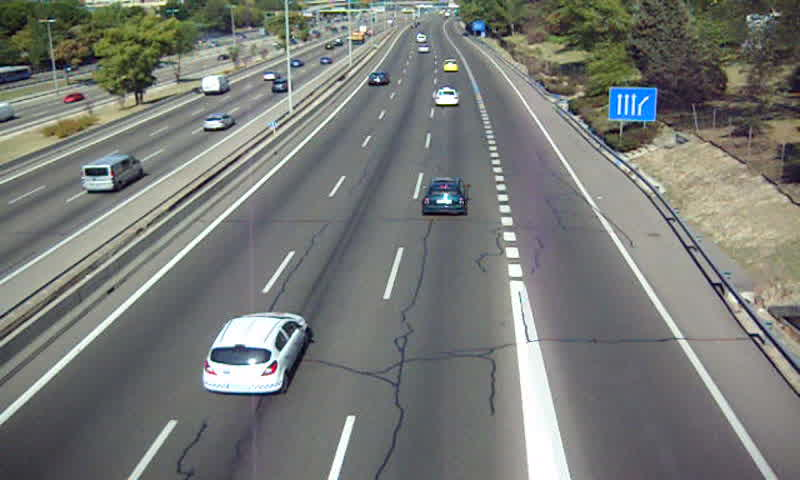car: (203, 312, 308, 394), (421, 177, 470, 214), (433, 86, 458, 106), (366, 73, 389, 86)
